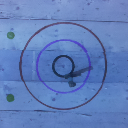Axe Tip: (68, 74, 77, 76)
